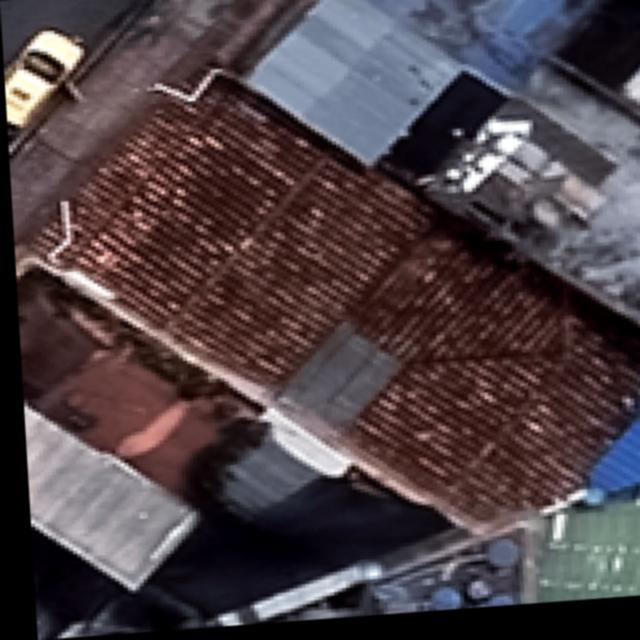Batiment: (28, 82, 640, 537), (243, 0, 460, 169), (22, 406, 191, 591), (583, 410, 640, 499)
